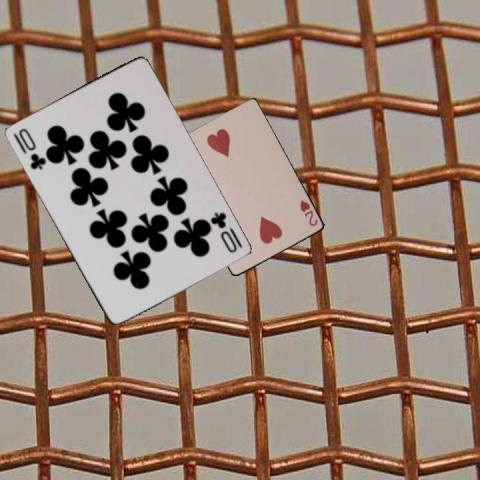10c: (10, 125, 47, 171), (207, 209, 243, 254)
2h: (298, 197, 320, 228)
